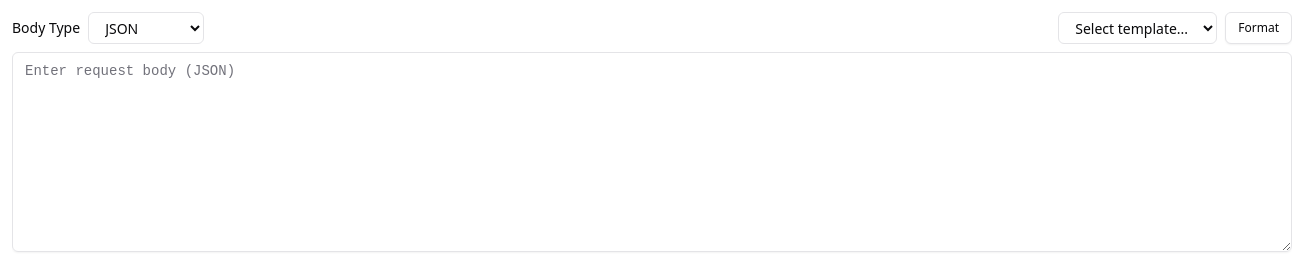
BodyEditor › Body Type Switching › should not show format button for Text type
Select "Text" in the dropdown labelled "Body Type" at (146, 28), box x1=88 y1=12 x2=204 y2=44
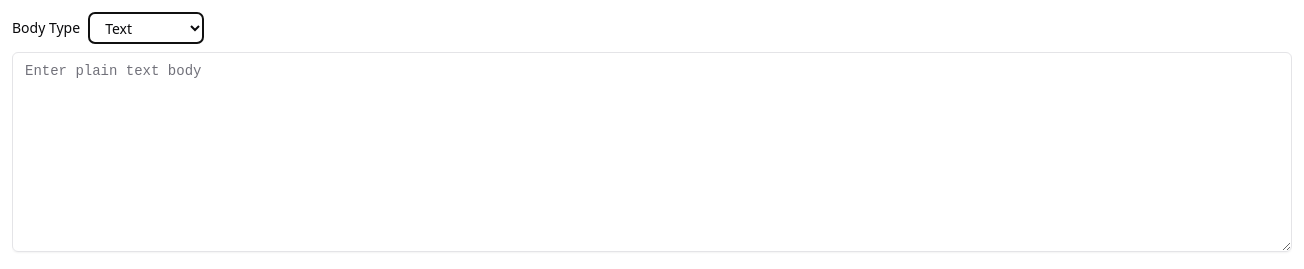
Expected: the button "Format" is gone
